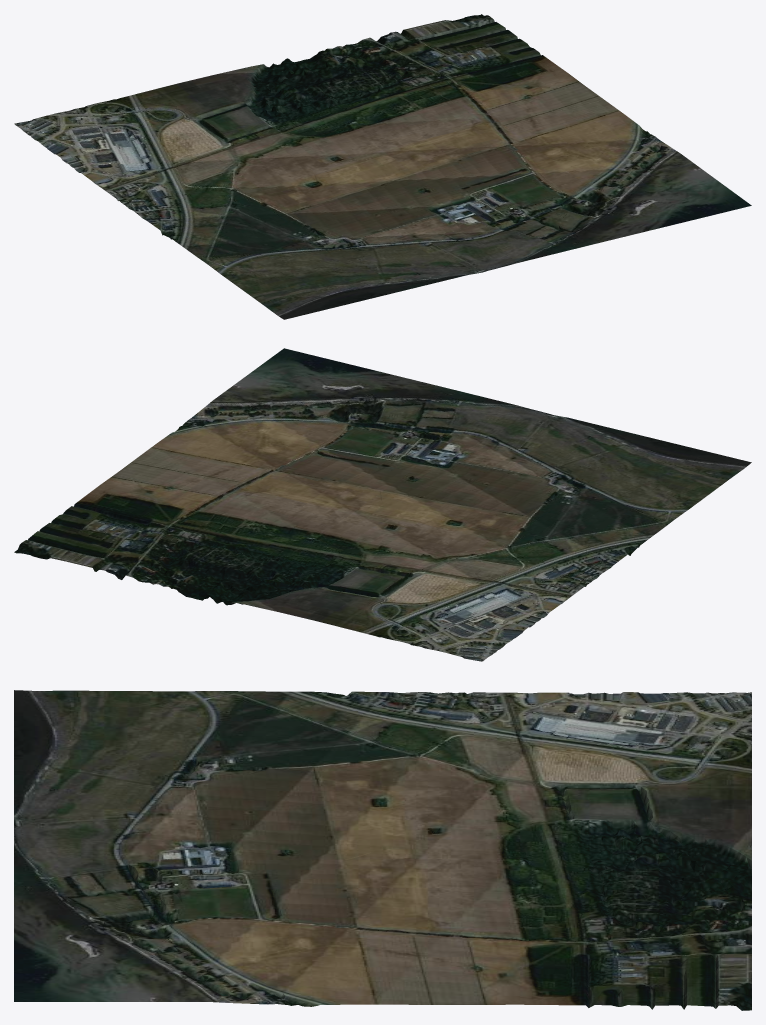
The model's file is map_10_253_427.dae.
3 views of the same model, one above another, from view 1: azimuth 30°, elevation 25°; view 2: azimuth 150°, elevation 25°; view 3: azimuth 270°, elevation 25° (orthographic). The views are drawn at different scales.
Visible parts, largest first — view 1: Ter0; view 2: Ter0; view 3: Ter0.
Part boxes in pixels (x1=…): Ter0: x1=14, y1=14, x2=751, y2=319; Ter0: x1=14, y1=348, x2=751, y2=661; Ter0: x1=14, y1=690, x2=751, y2=1010.
Bounding box in the file's own units: 2044 × 2044 × 36.85.
3 materials, 3 textured.
